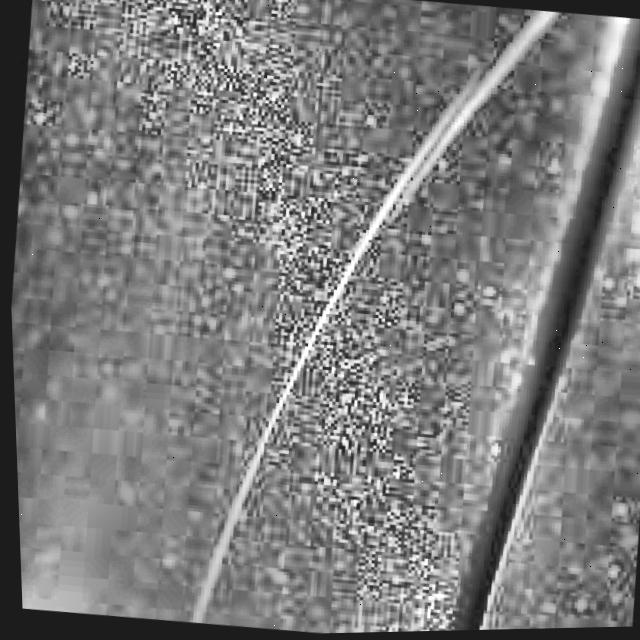door_scratch: (178, 137, 410, 636), (362, 0, 583, 202)
